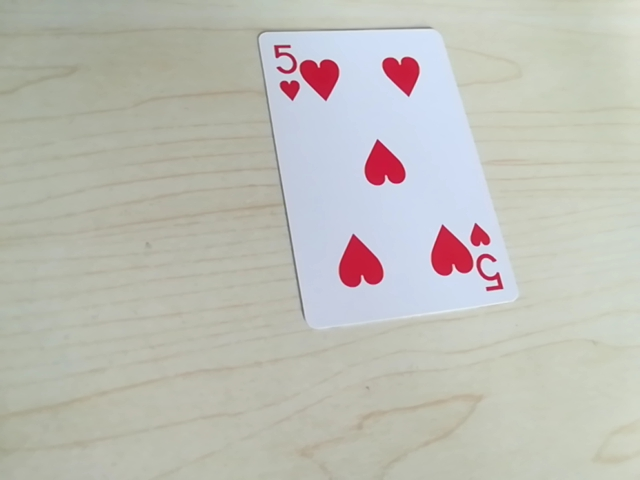hx 5: (269, 46, 319, 108), (470, 224, 504, 298)
